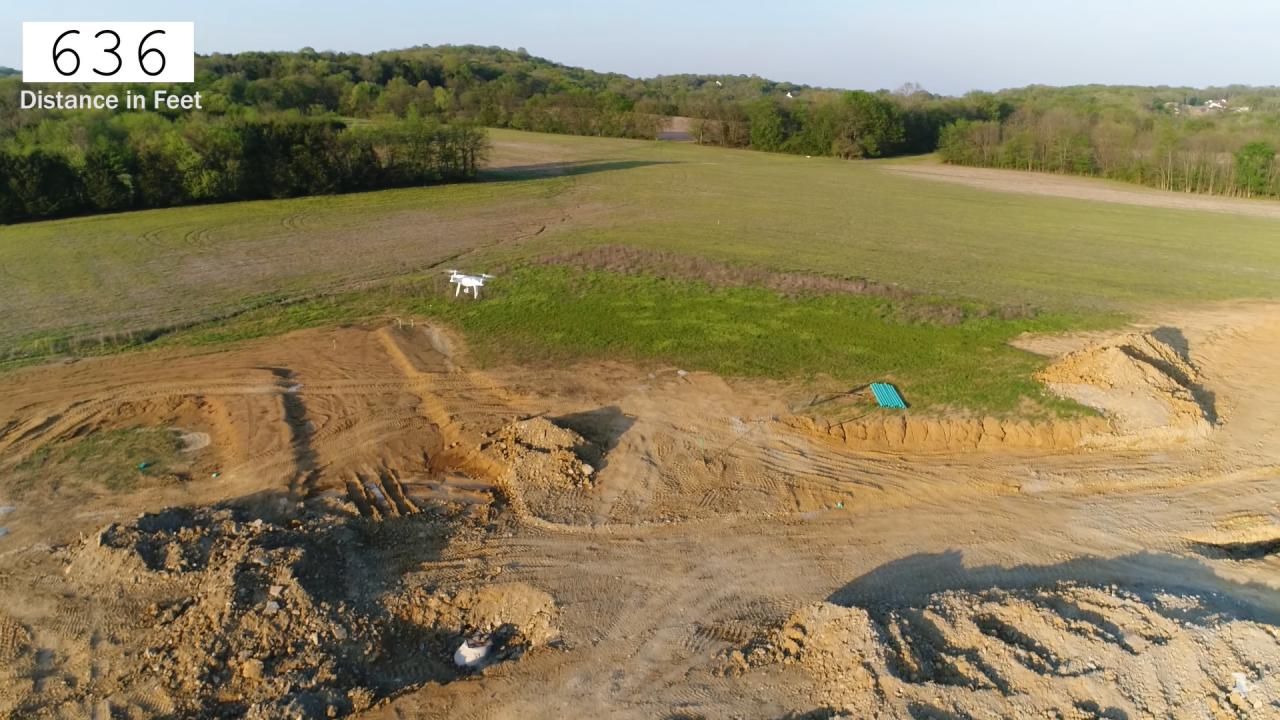Drone: (434, 260, 505, 308)
